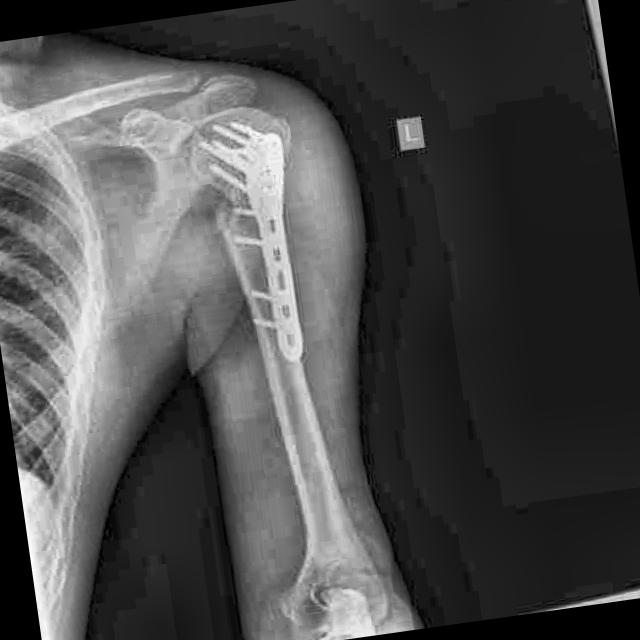humerus: (205, 192, 255, 261)
